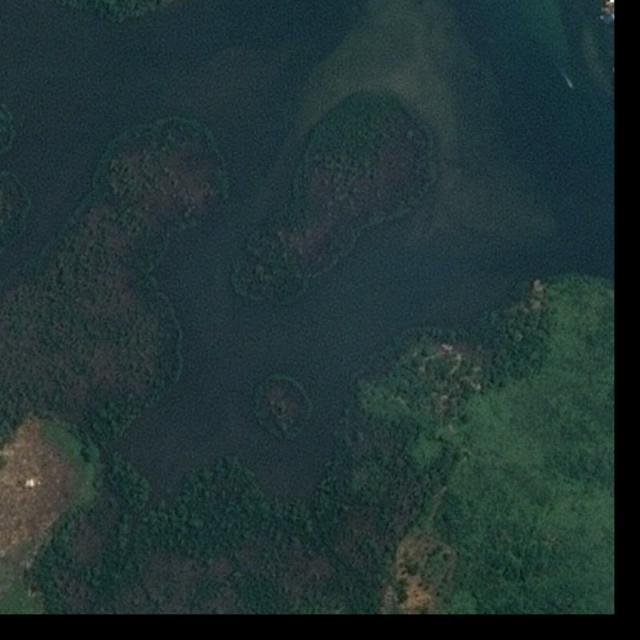ship: (568, 82, 576, 91)
